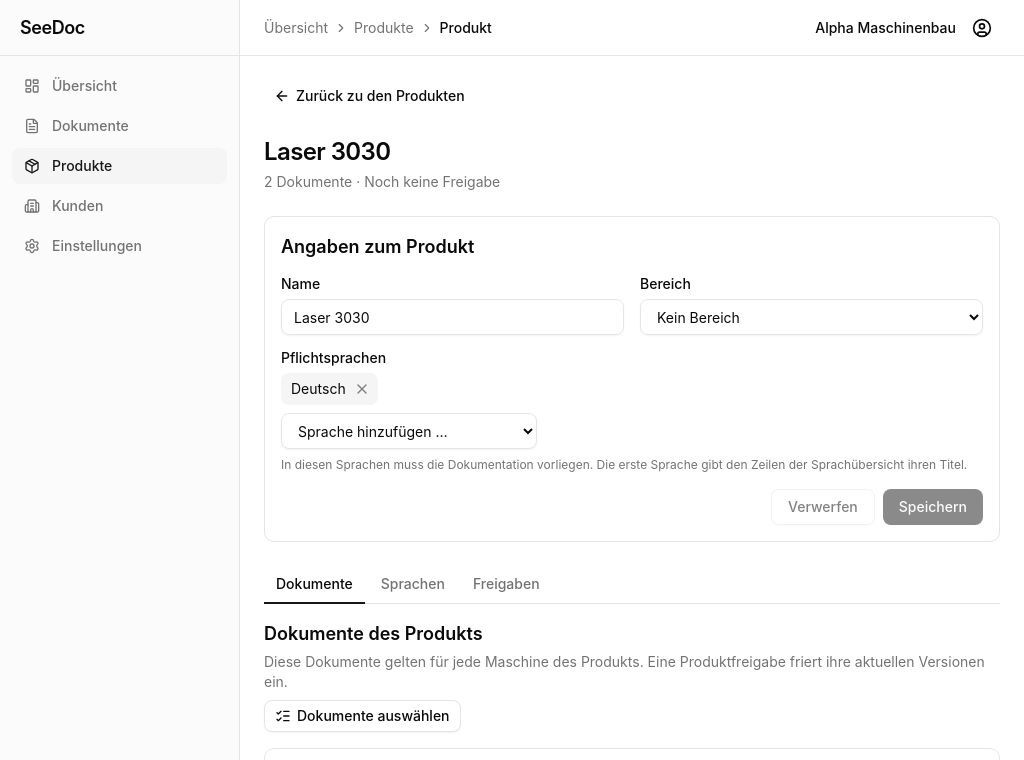
Test case: ProductDocuments › chooses documents: the set is preselected, machine-specific ones are locked, saving sends the whole set
The image size is (1024, 760).
Click the button "Dokumente auswählen" at (362, 716), box [264,700,460,732]
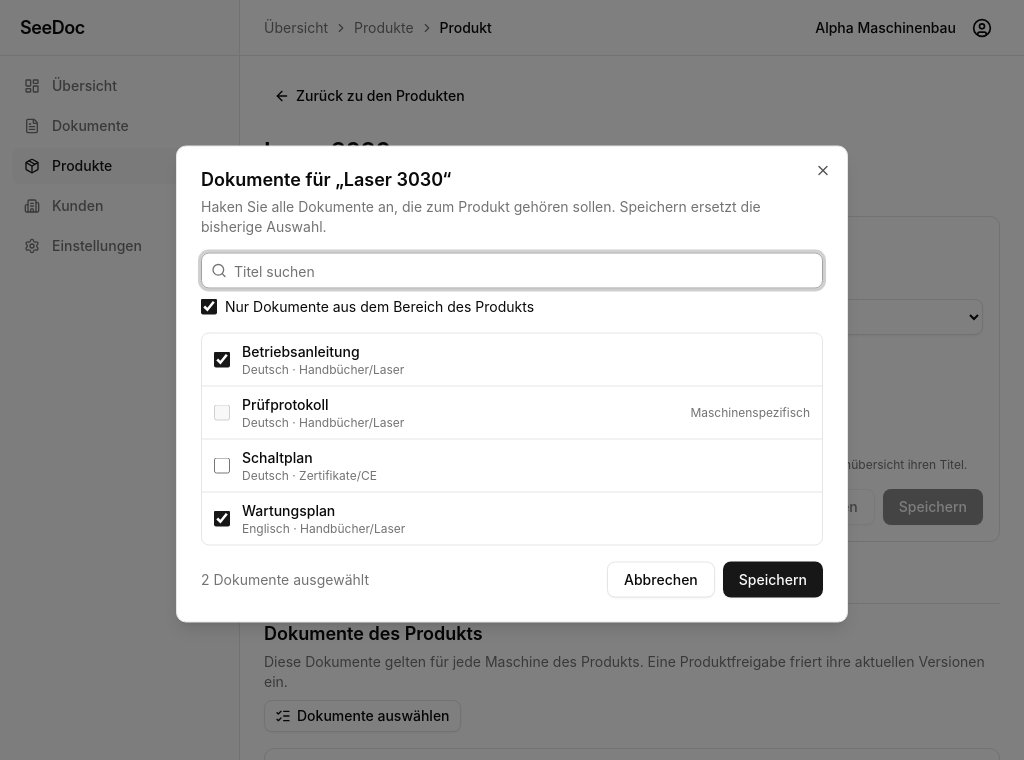
Expected: the list named "Dokumente der Bibliothek" is shown, [201,332,823,546]
Expected: the checkbox labelled "Betriebsanleitung Deutsch · Handbücher/Laser" is checked, [214,352,230,368]
Expected: the checkbox labelled "Wartungsplan Englisch · Handbücher/Laser" is checked
Click the checkbox labelled "Wartungsplan Englisch · Handbücher/Laser" at (222, 518), box [214,510,230,526]
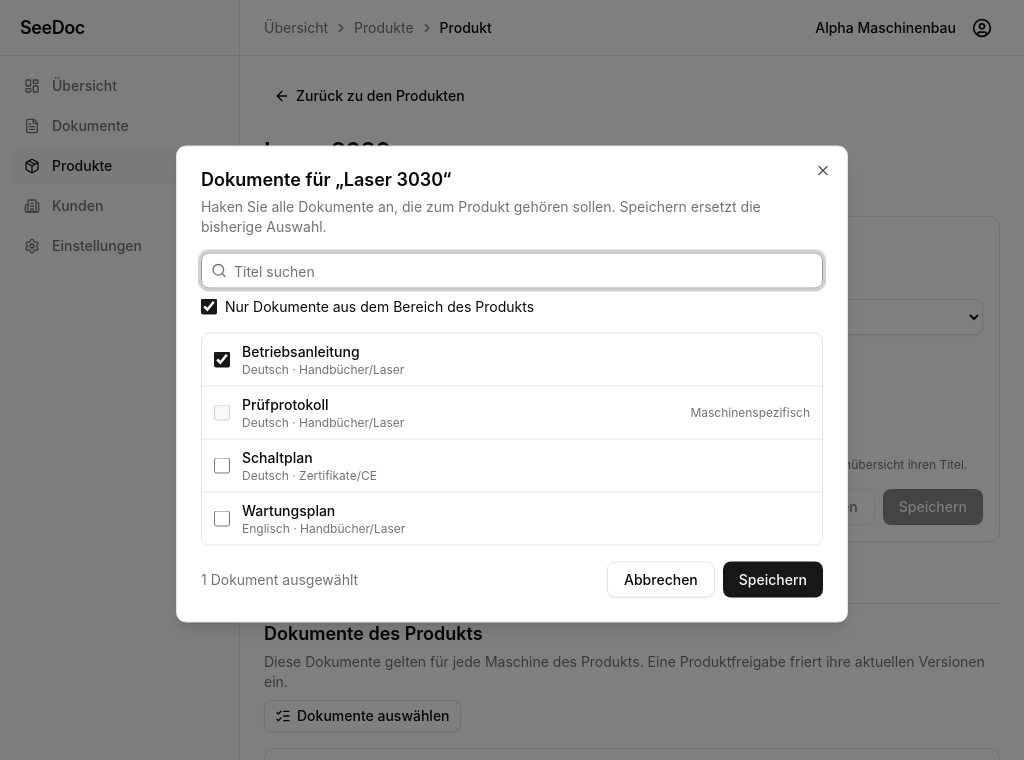
Click the checkbox labelled "Schaltplan Deutsch · Zertifikate/CE" at (222, 466), box [214,458,230,474]
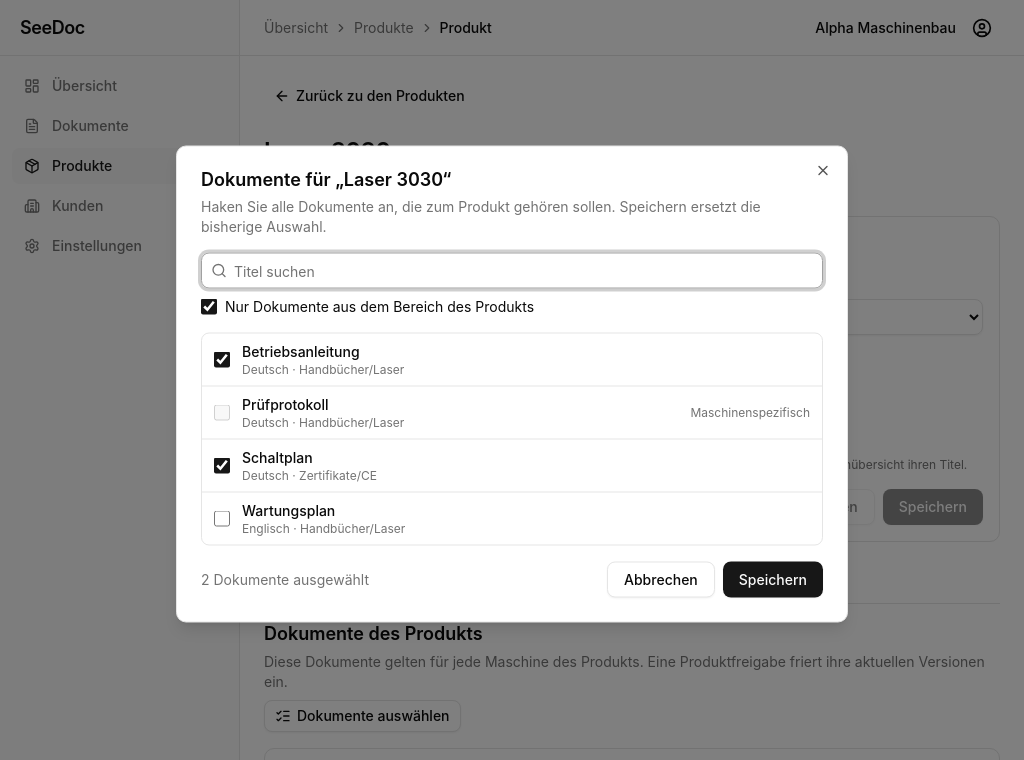
Click the button "Speichern" at (773, 580), box [723,562,823,598]
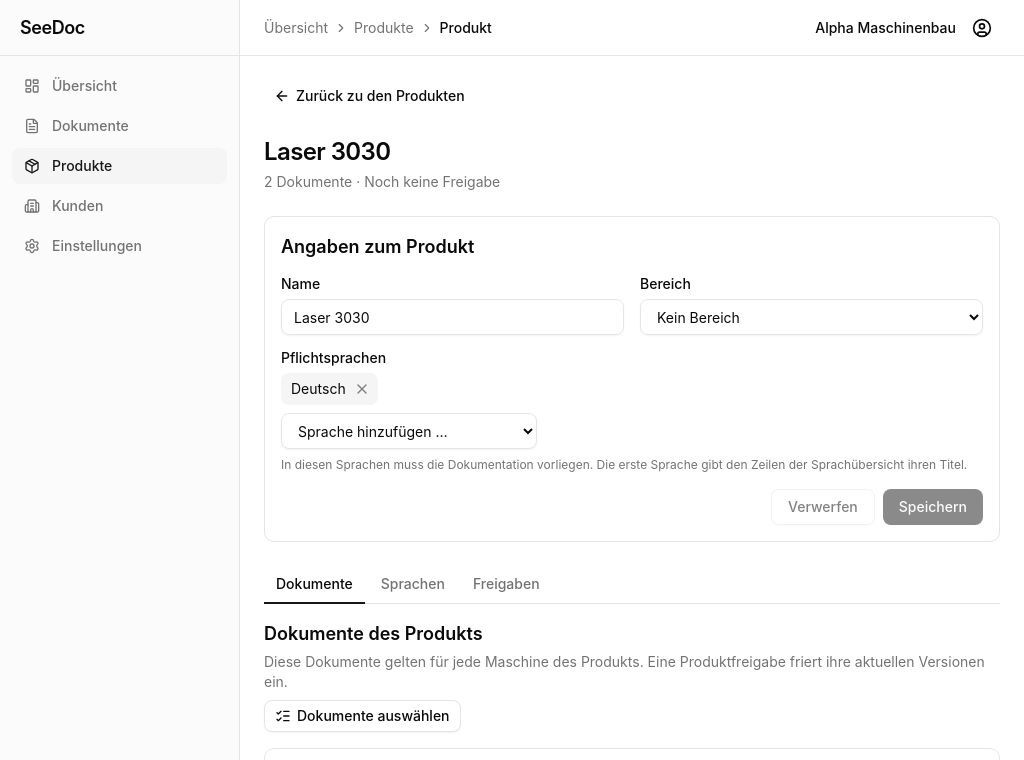
Expected: the dialog is gone
